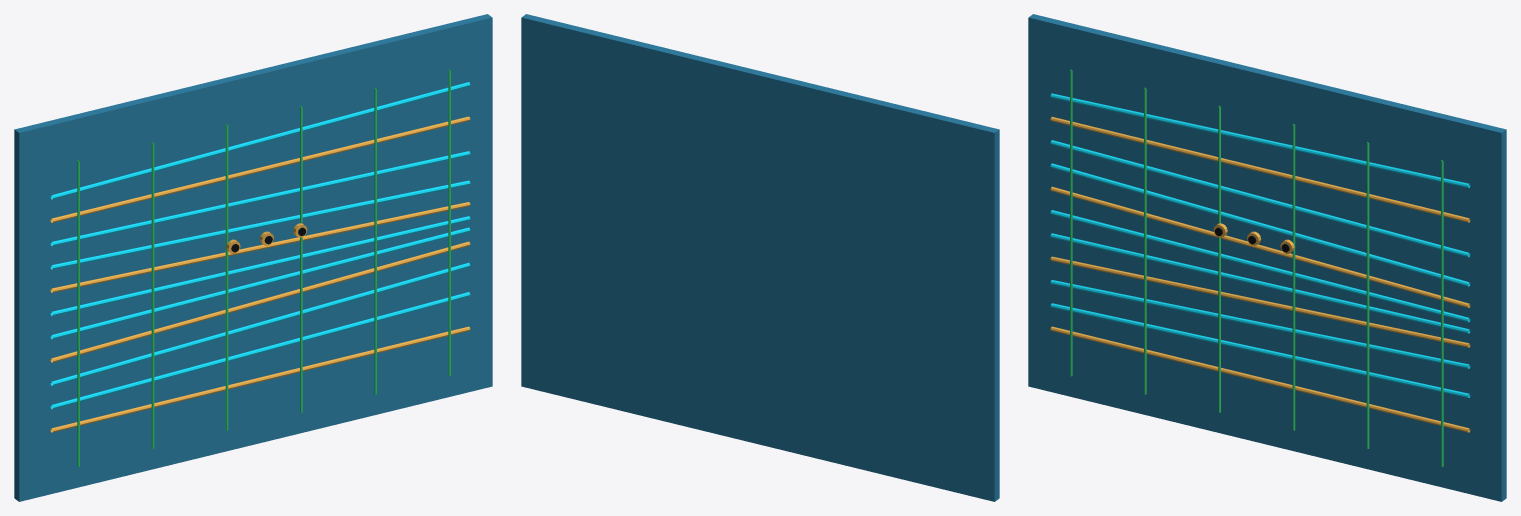
The model's file is 04_L92_Khepri7GeologicalHologram.fbx.
The picture shows the model from 3 angles, left to right: view 1: azimuth 30°, elevation 25°; view 2: azimuth 150°, elevation 25°; view 3: azimuth 330°, elevation 25°; orthographic projection.
Visible parts, largest first — view 1: L92_Khepri7GeologicalHologram_Part_0000, L92_Khepri7GeologicalHologram_Part_0002, L92_Khepri7GeologicalHologram_Part_0001, L92_Khepri7GeologicalHologram_Part_0003; view 2: L92_Khepri7GeologicalHologram_Part_0000; view 3: L92_Khepri7GeologicalHologram_Part_0000, L92_Khepri7GeologicalHologram_Part_0002, L92_Khepri7GeologicalHologram_Part_0001, L92_Khepri7GeologicalHologram_Part_0003.
Boxes of the visible parts, left/top/right/bottom form: L92_Khepri7GeologicalHologram_Part_0000: left=14, top=14, right=492, bottom=501; L92_Khepri7GeologicalHologram_Part_0002: left=50, top=82, right=470, bottom=409; L92_Khepri7GeologicalHologram_Part_0001: left=50, top=116, right=470, bottom=432; L92_Khepri7GeologicalHologram_Part_0003: left=77, top=69, right=450, bottom=466; L92_Khepri7GeologicalHologram_Part_0000: left=521, top=14, right=999, bottom=501; L92_Khepri7GeologicalHologram_Part_0000: left=1028, top=14, right=1506, bottom=501; L92_Khepri7GeologicalHologram_Part_0002: left=1050, top=93, right=1470, bottom=397; L92_Khepri7GeologicalHologram_Part_0001: left=1050, top=116, right=1470, bottom=432; L92_Khepri7GeologicalHologram_Part_0003: left=1070, top=69, right=1443, bottom=466.
Bounding box in the file's own units: 510 × 380 × 33.7.
